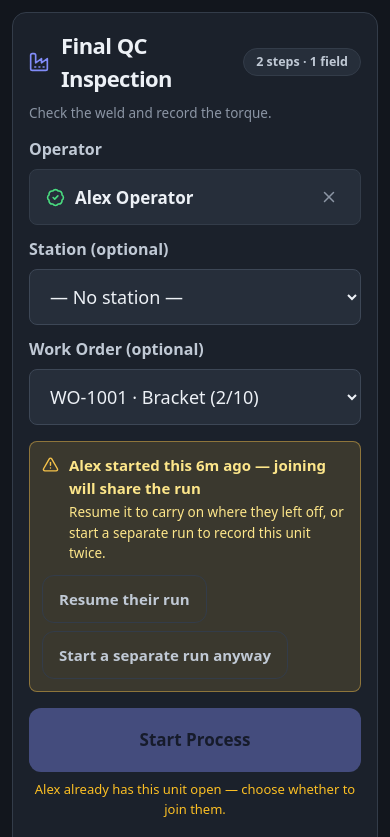
a run already open on the same unit › renders the warning ABOVE Start Process and holds the button
The width and height of the screenshot is (390, 837).
Expected: the text "Alex started this 6m ago — joining will share the run" is shown, [69,454,348,499]
Expected: the button "Start Process" is disabled, [29,708,361,772]
Click the button "Start a separate run anyway" at (165, 655), box [42,631,288,679]
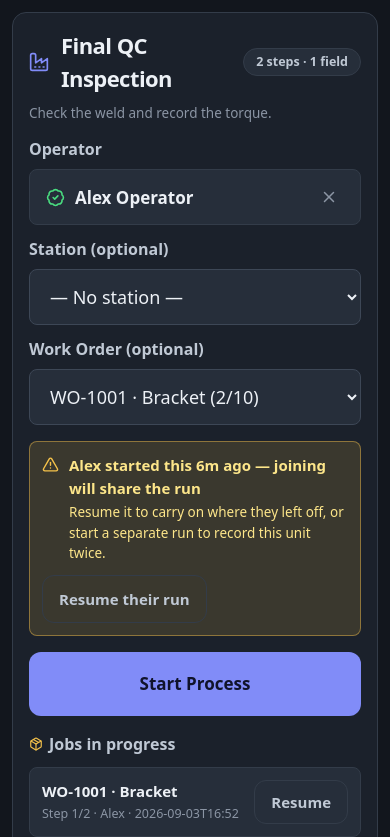
Now the button "Start Process" is enabled, box [29,652,361,716]
